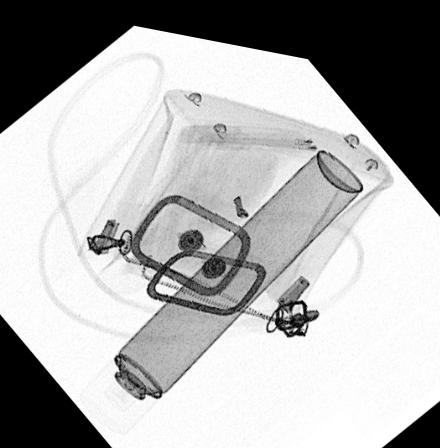Sprayer: (76, 136, 364, 428)
